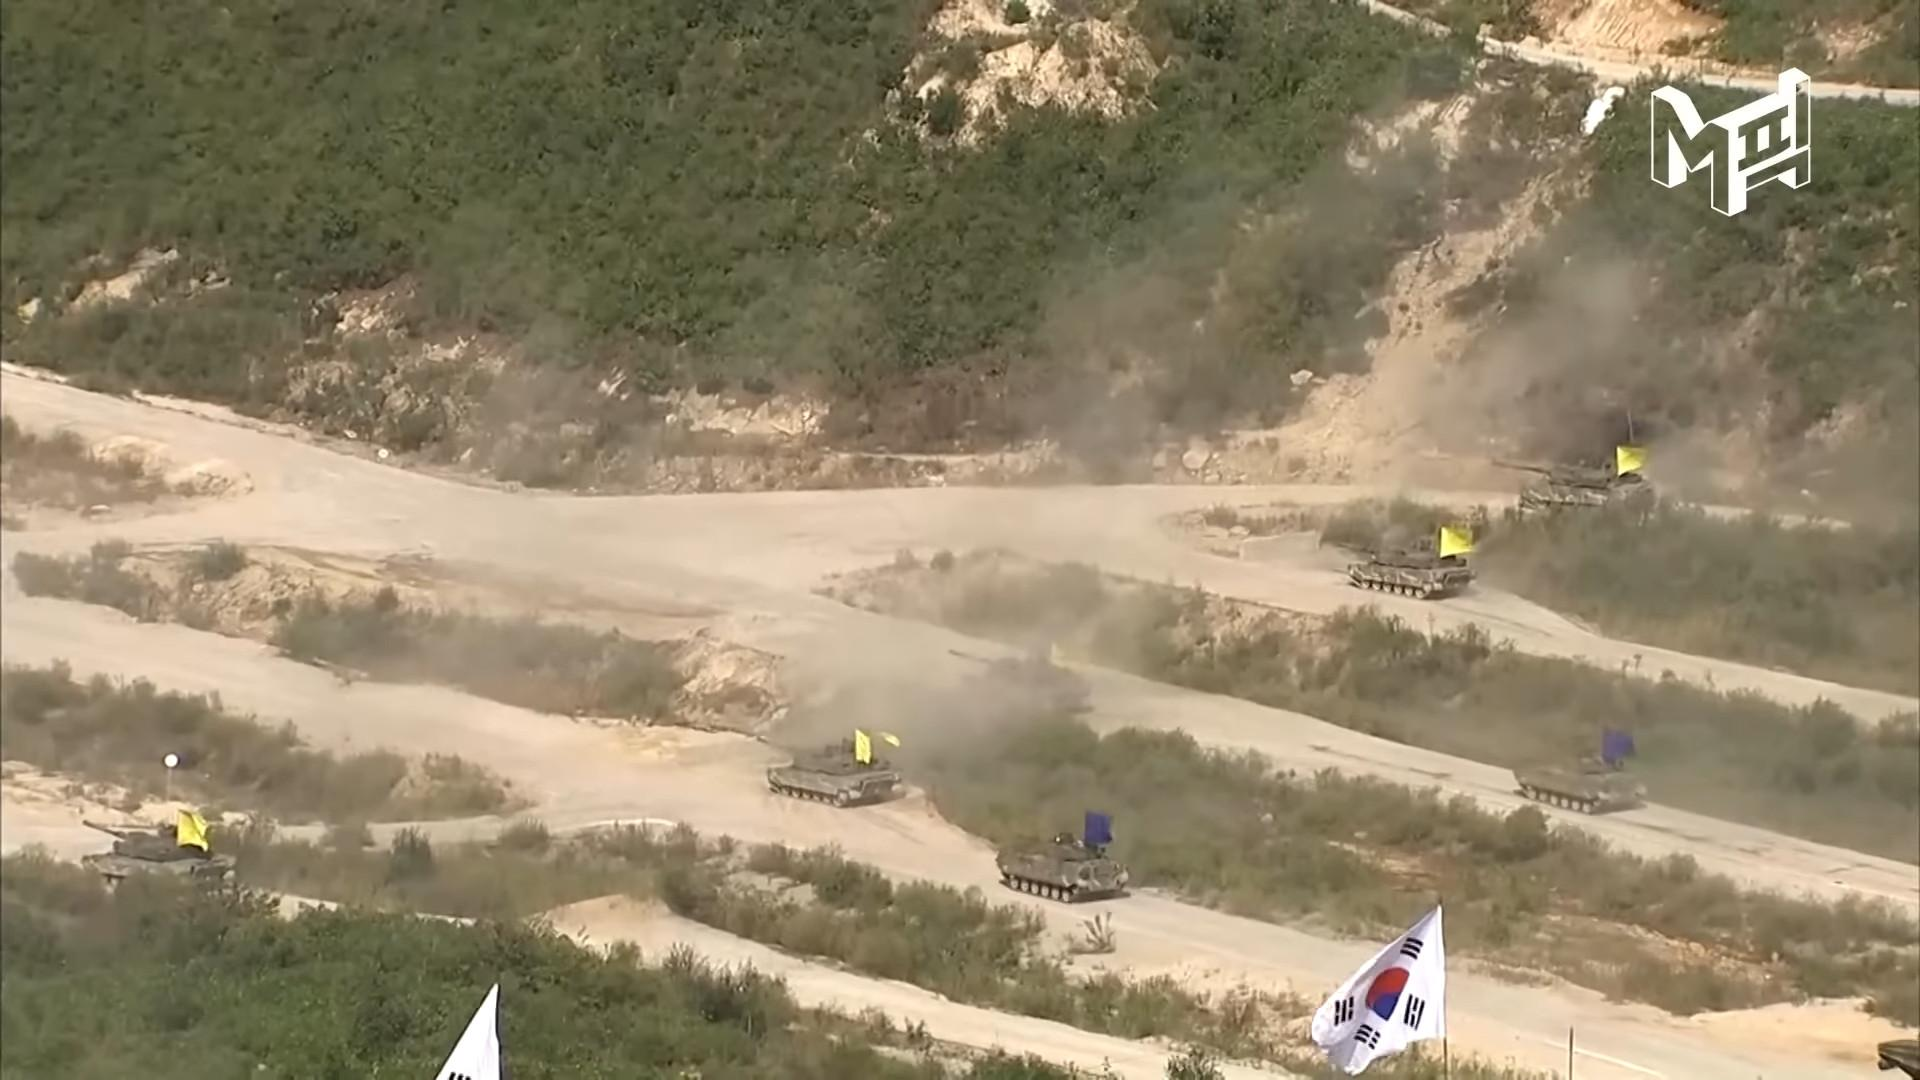tank: (82, 820, 237, 897), (757, 736, 902, 808), (1327, 533, 1477, 599), (997, 832, 1129, 902), (1515, 750, 1646, 814)
